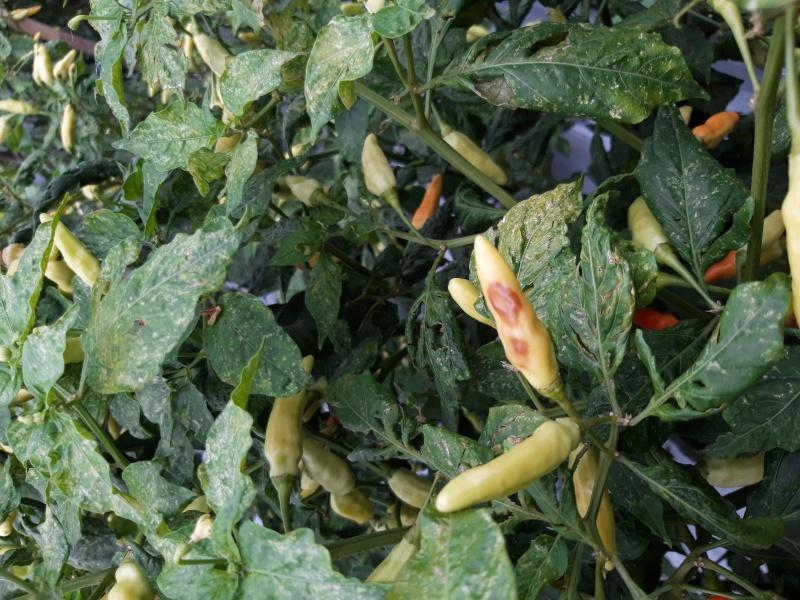antraknosa: (474, 236, 559, 389)
cabai_normal: (435, 423, 571, 513), (262, 359, 310, 478), (43, 212, 106, 293), (574, 443, 611, 556), (444, 126, 508, 185), (300, 443, 354, 491), (362, 134, 399, 194), (411, 173, 446, 229), (693, 110, 740, 144)
